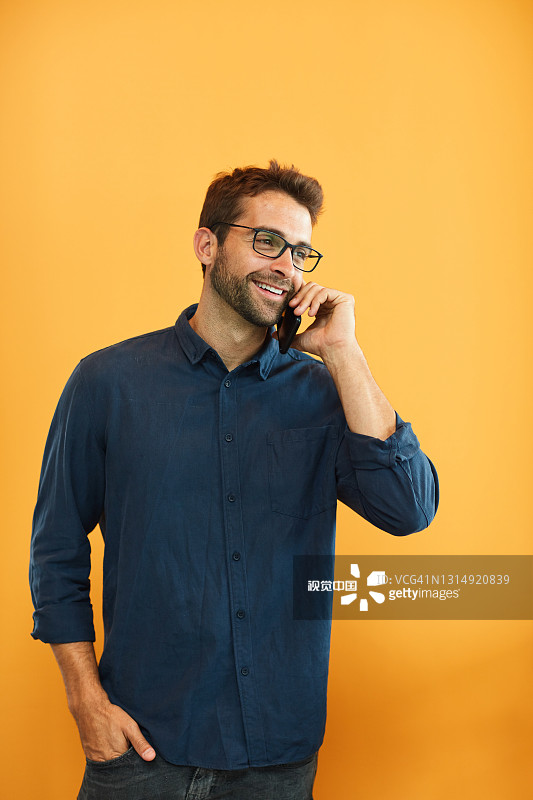calling: (276, 268, 402, 411)
